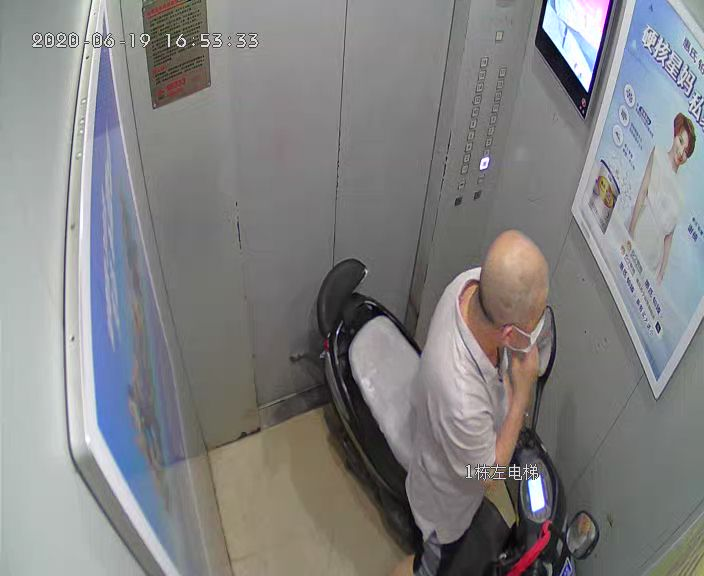Electric-bicycle: (313, 257, 601, 572)
